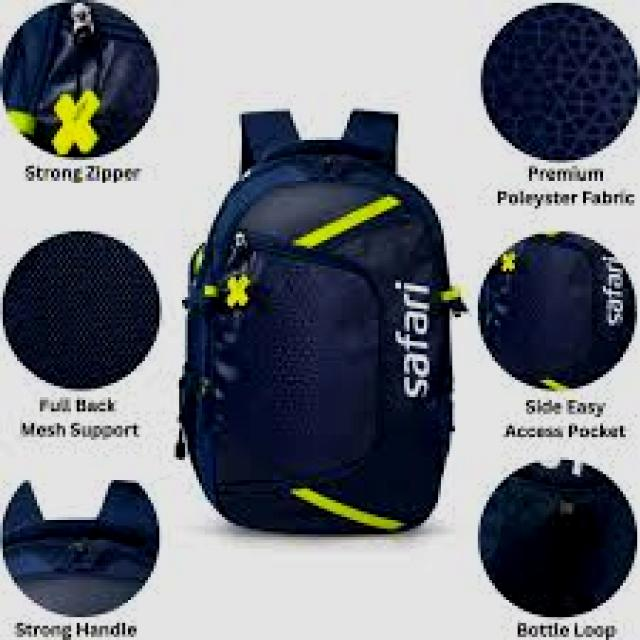backpack: (175, 107, 468, 535)
